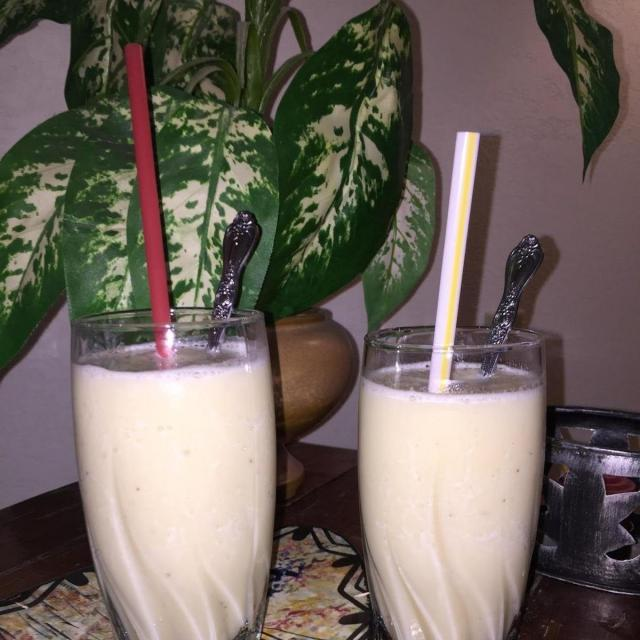glass-normal: (64, 301, 287, 640), (350, 315, 560, 640)
